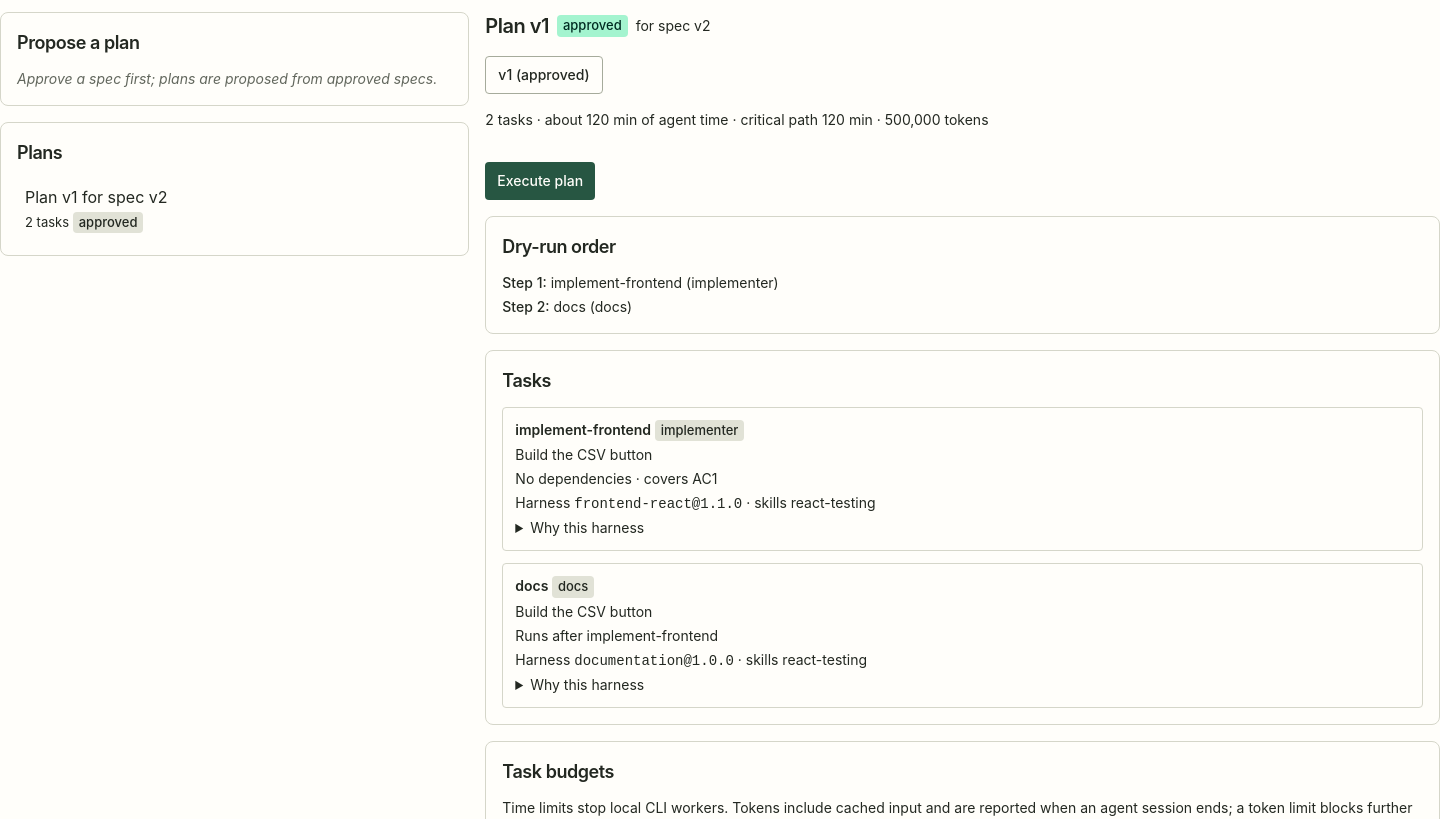
PlansScreen › explains when Mimir is not configured
This screenshot has width=1440, height=819.
Click the button "Execute plan" at (540, 181), box [485,162,595,200]
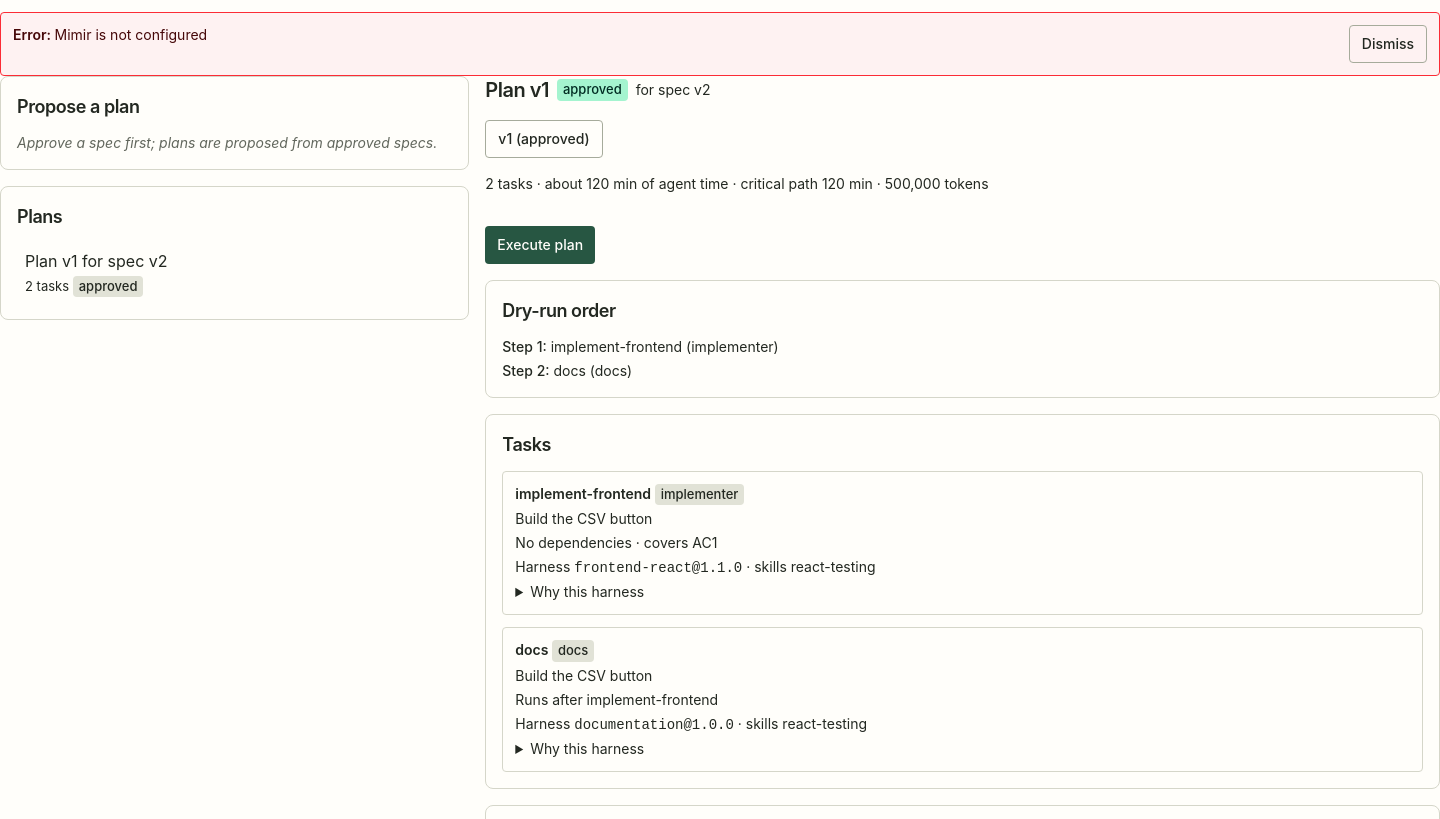
Expected: the message shows "Mimir is not configured", [54,26,207,43]
